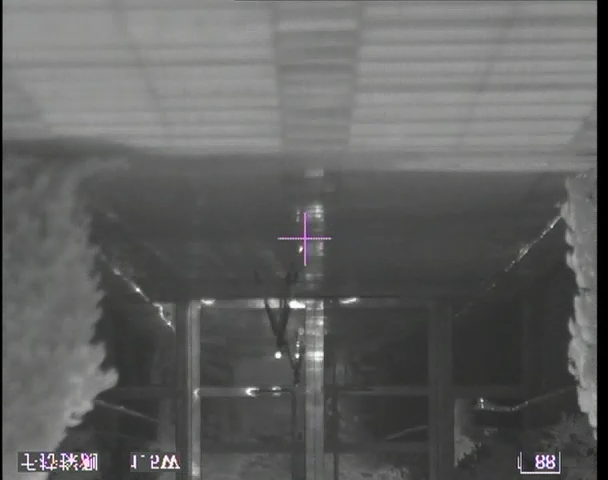my: (274, 350, 283, 360)
